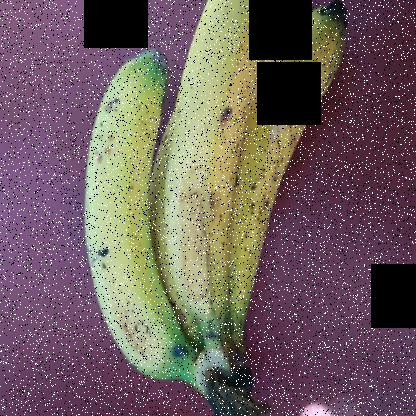ripe: (219, 0, 354, 373), (155, 0, 288, 378), (83, 67, 196, 410)
